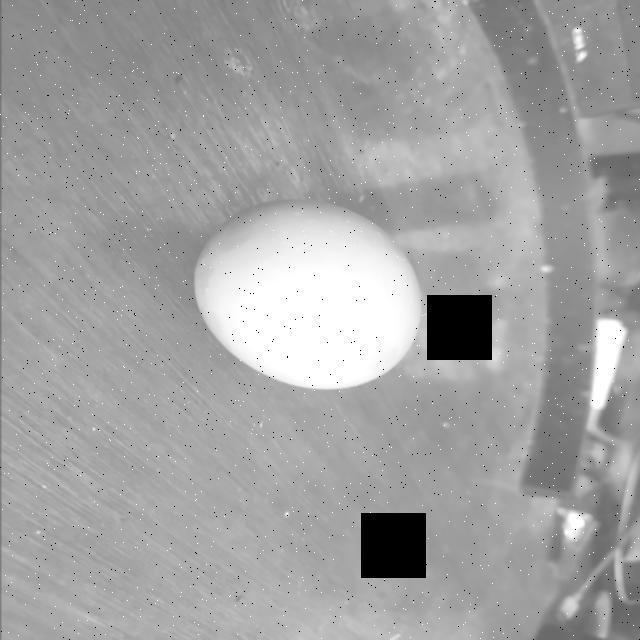egg: (183, 192, 427, 396)
